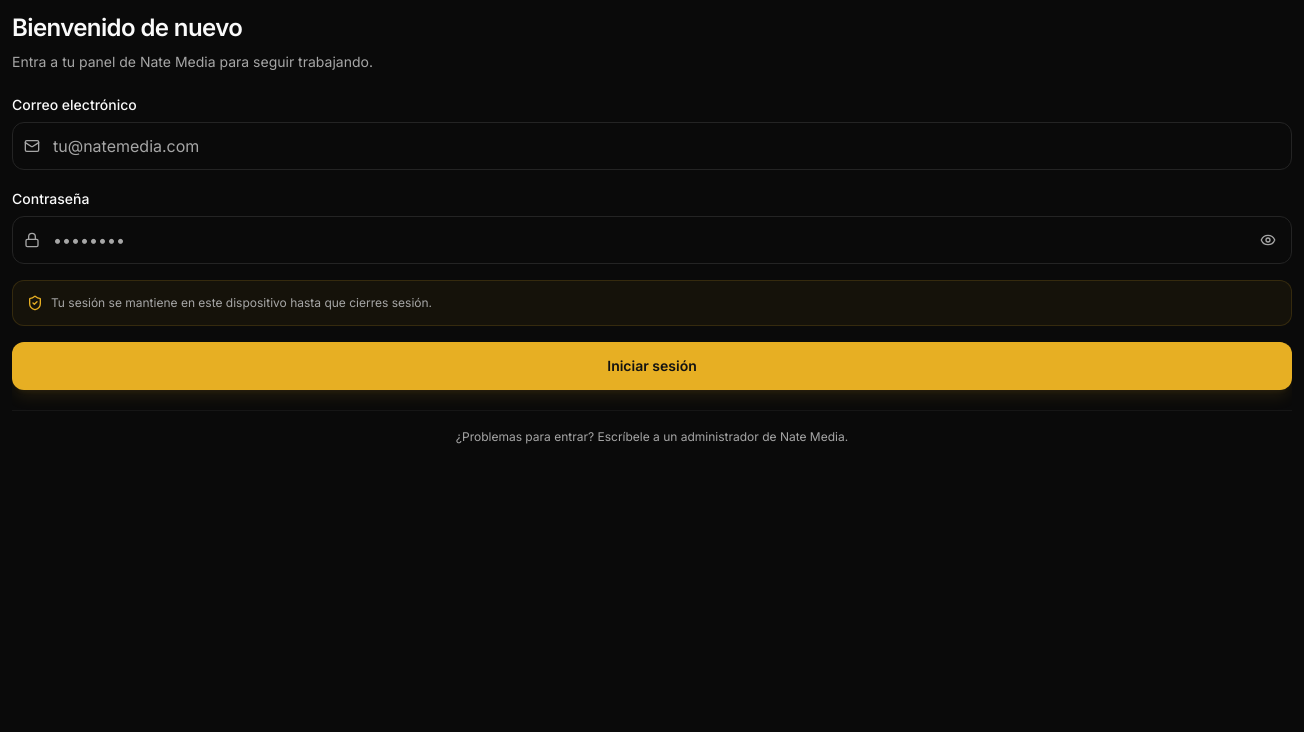
Test: LoginForm › surfaces the error returned by signIn
Type "a@b.com" into the field labelled "Correo electrónico" at (652, 146), box [12,122,1292,170]
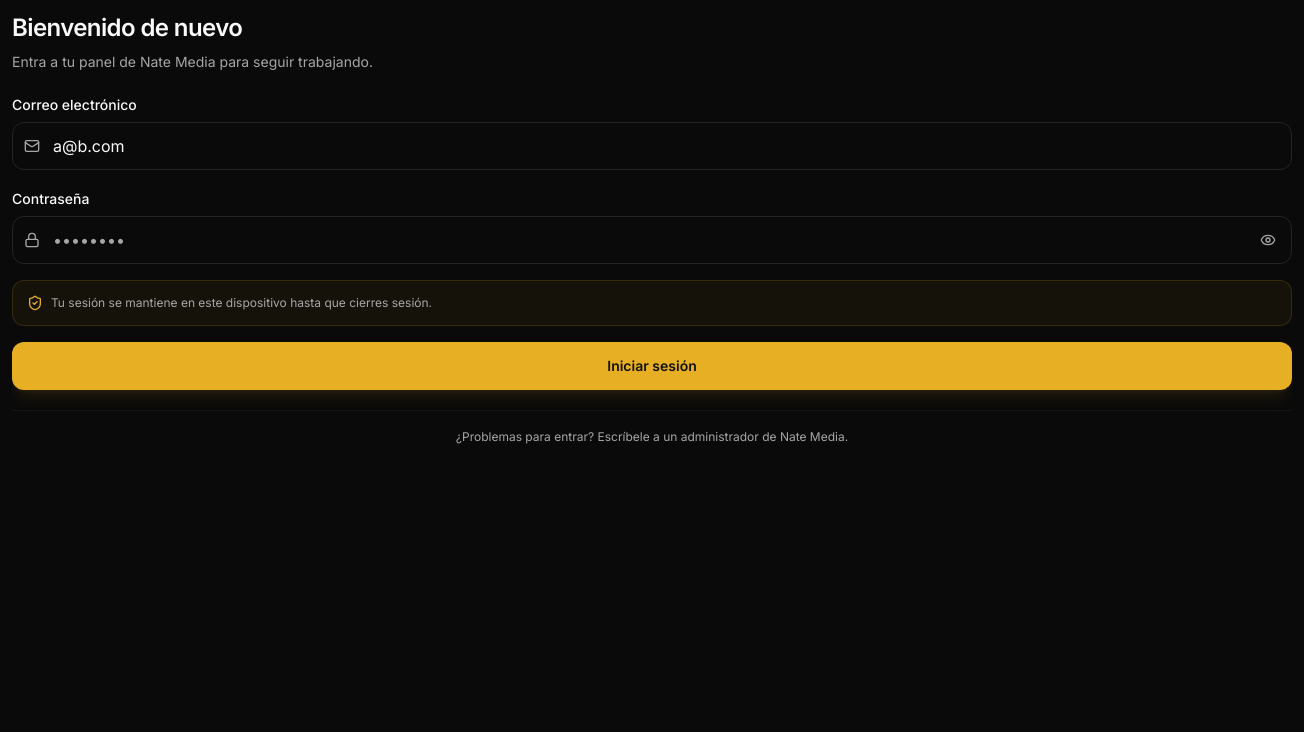
Type "x" into the password field labelled "Contraseña" at (652, 240), box [12,216,1292,264]
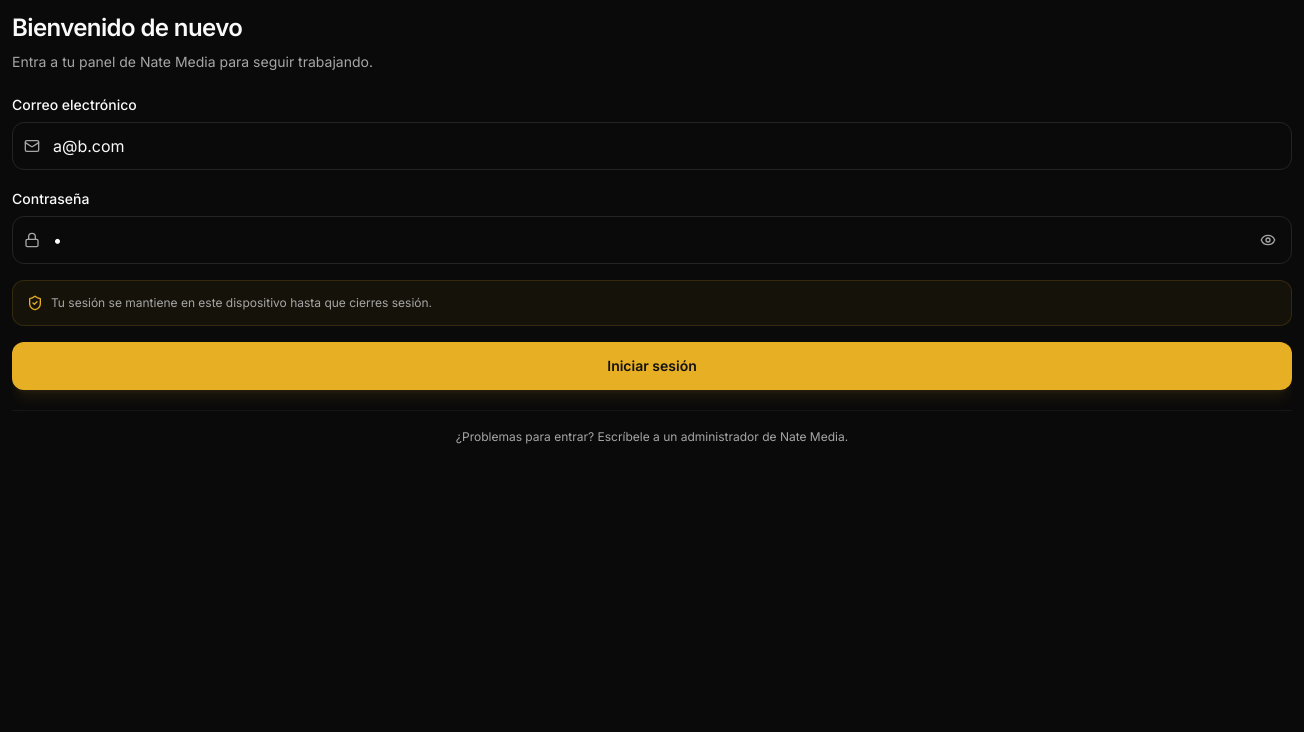
Click the button "Iniciar sesión" at (652, 366), box [12,342,1292,390]
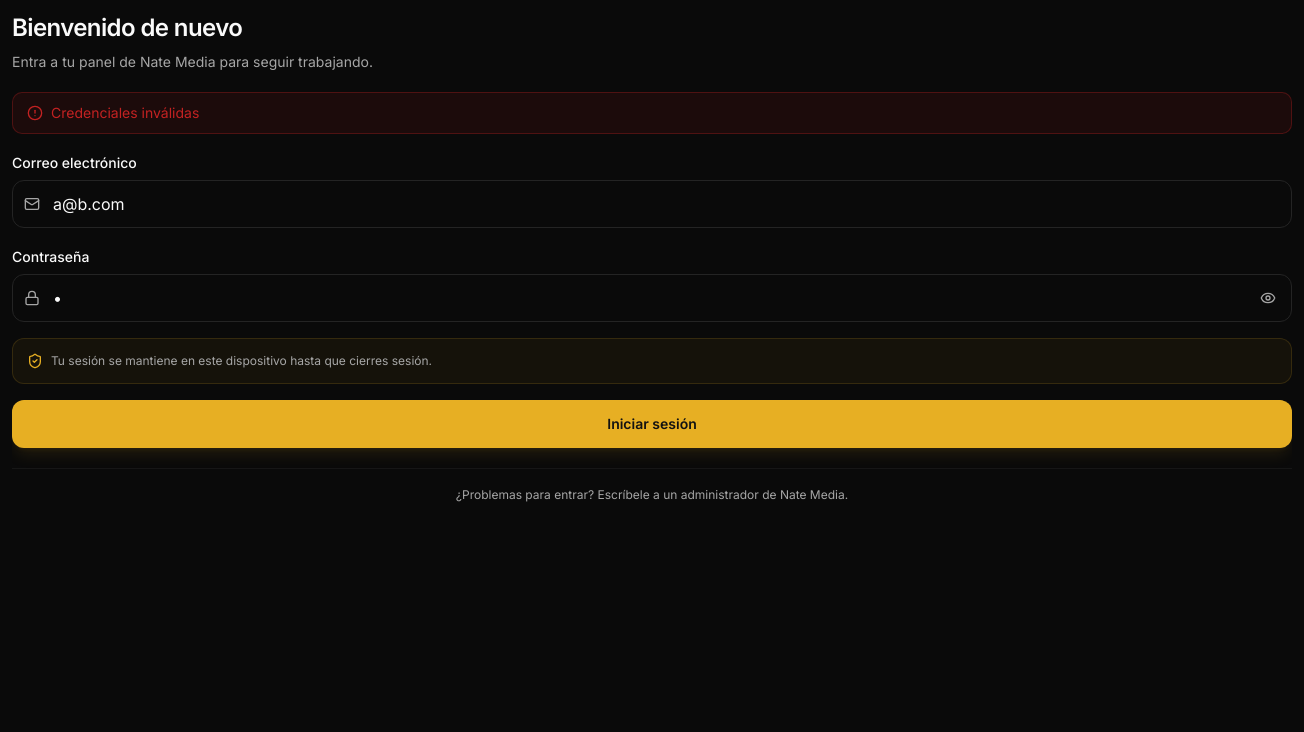
Expected: the message reads "Credenciales inválidas", [51,104,199,121]
